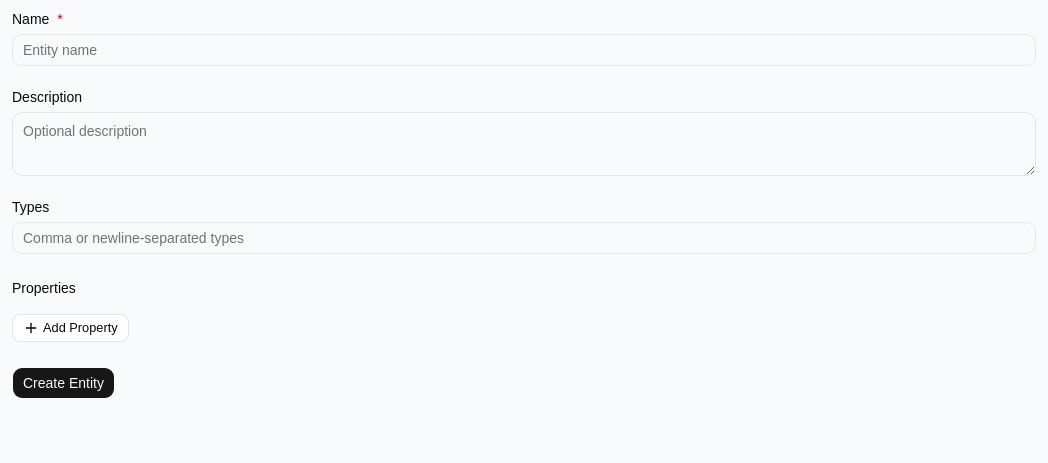
Test: EntityForm › dynamic properties › "Add Property" button adds empty row
The image size is (1048, 463).
Click the button with test id "add-property": (70, 328) [12,314,129,342]
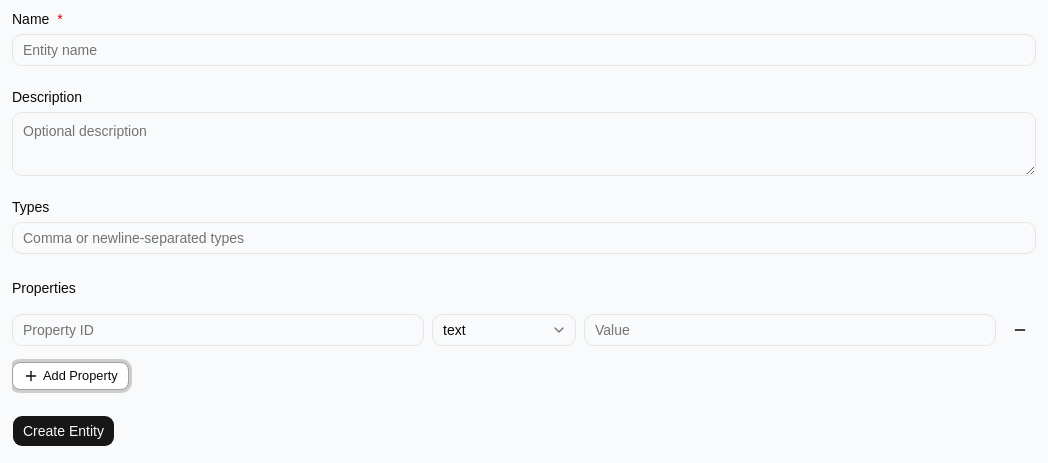
Check: the element with test id "property-row-0" is shown, box [12,314,1036,346]
Check: the field with test id "property-id-0" is empty, box [12,314,424,346]
Check: the field with test id "property-value-0" is empty, box [584,314,996,346]
